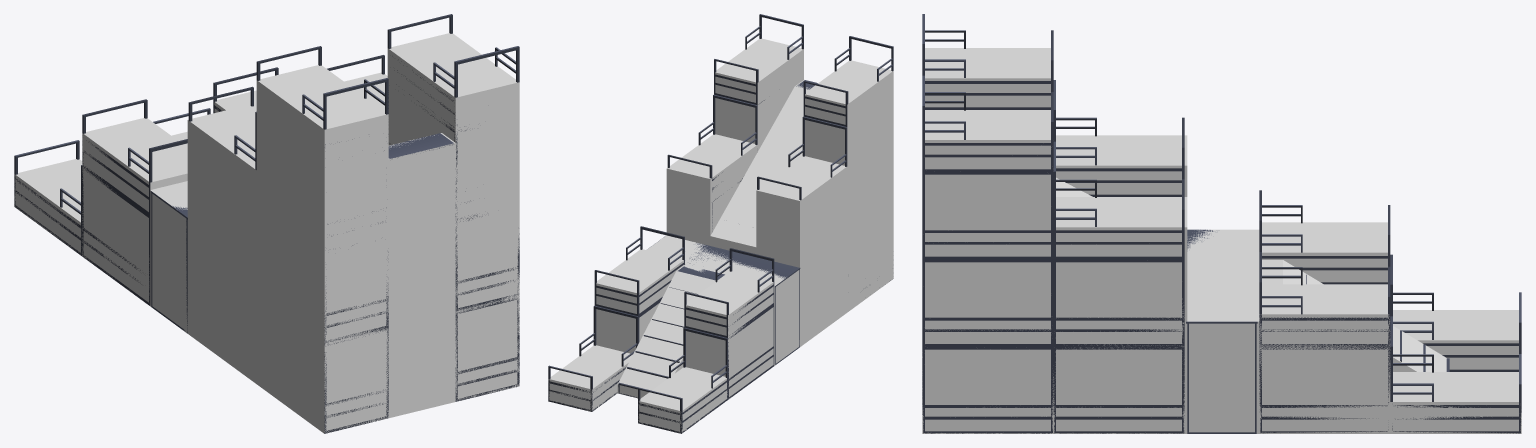
The model's file is squidgame_props_bed_set3.fbx.
The picture shows the model from 3 angles, left to right: view 1: azimuth 30°, elevation 25°; view 2: azimuth 150°, elevation 25°; view 3: azimuth 270°, elevation 25°; orthographic projection. The views are drawn at different scales.
Visible parts, largest first — view 1: squidgame_props_bed_set3_col, squidgame_props_bed_set3; view 2: squidgame_props_bed_set3_col, squidgame_props_bed_set3; view 3: squidgame_props_bed_set3_col, squidgame_props_bed_set3.
Boxes of the visible parts, x1,y1,x2,y2 form: squidgame_props_bed_set3_col: (14,33,519,433); squidgame_props_bed_set3: (14,14,519,433); squidgame_props_bed_set3_col: (548,38,893,433); squidgame_props_bed_set3: (548,14,893,433); squidgame_props_bed_set3_col: (922,48,1521,433); squidgame_props_bed_set3: (922,14,1521,433).
Bounding box in the file's own units: 3.39 × 5.63 × 9.32.
